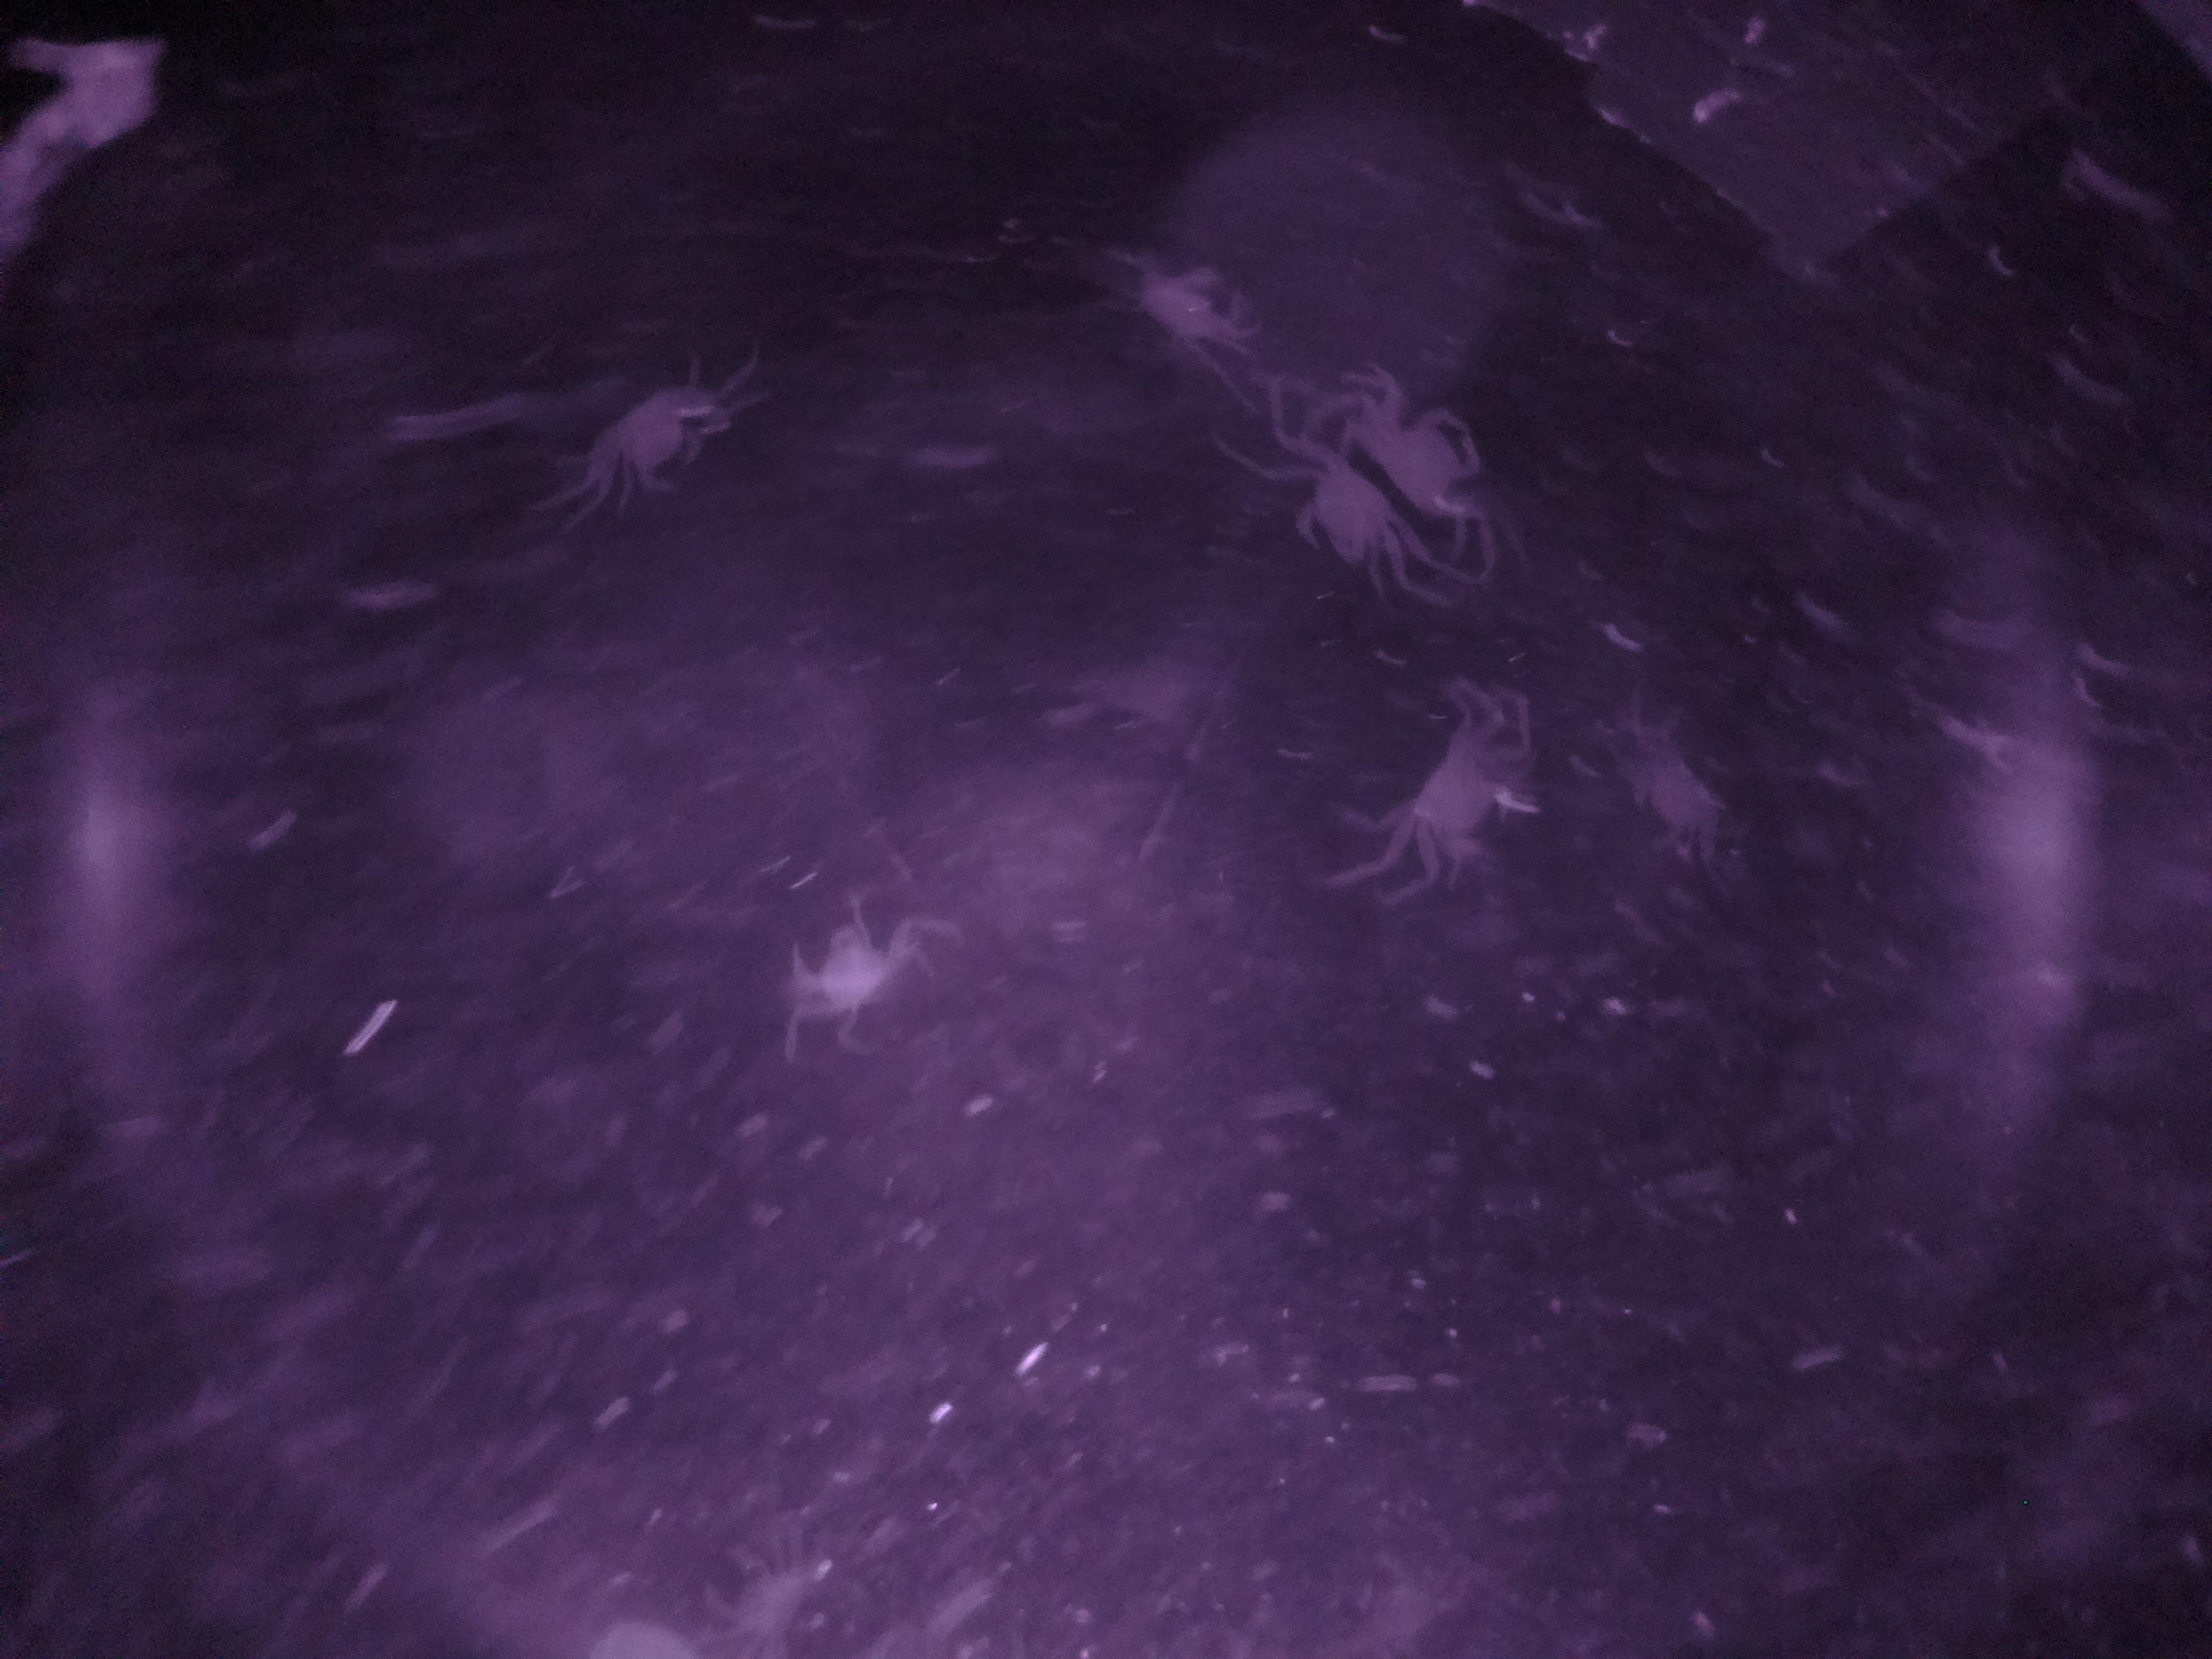Crab: (1282, 448, 1430, 594)
